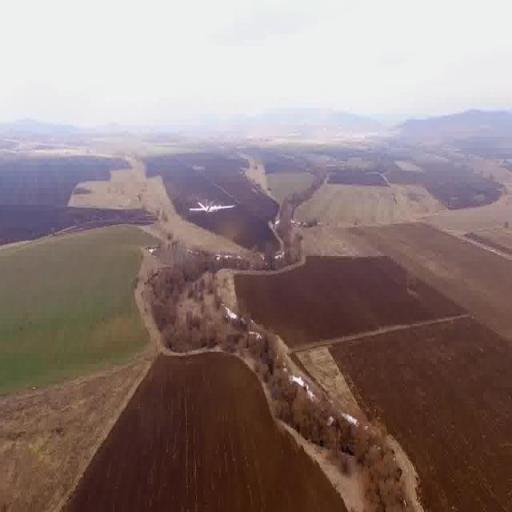uav: (185, 192, 240, 216)
